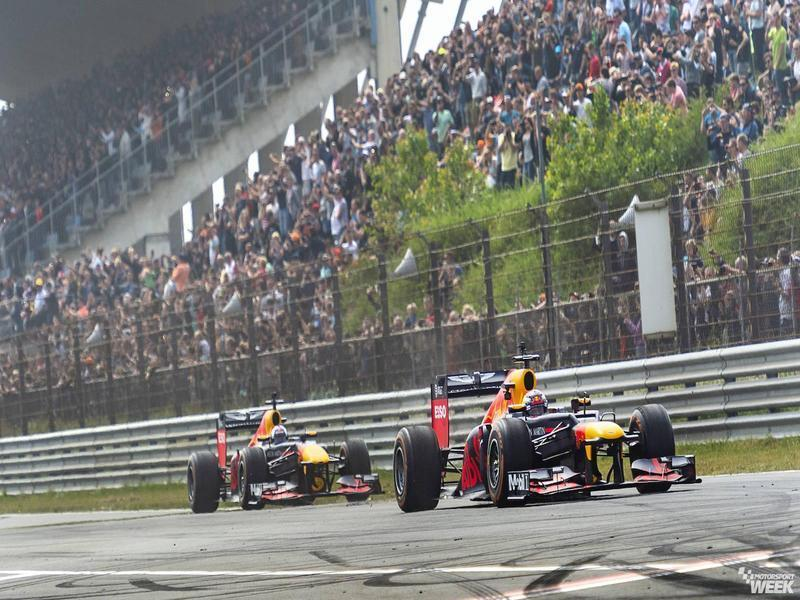f1: (384, 356, 703, 496), (186, 399, 384, 509)
